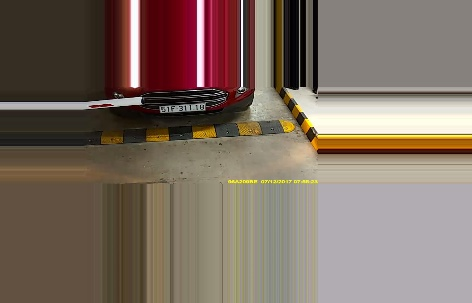plate: (159, 101, 207, 116)
